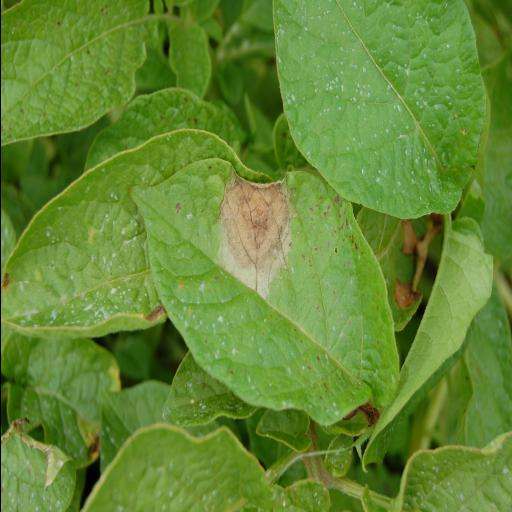disease_tomato: (128, 148, 400, 471)
